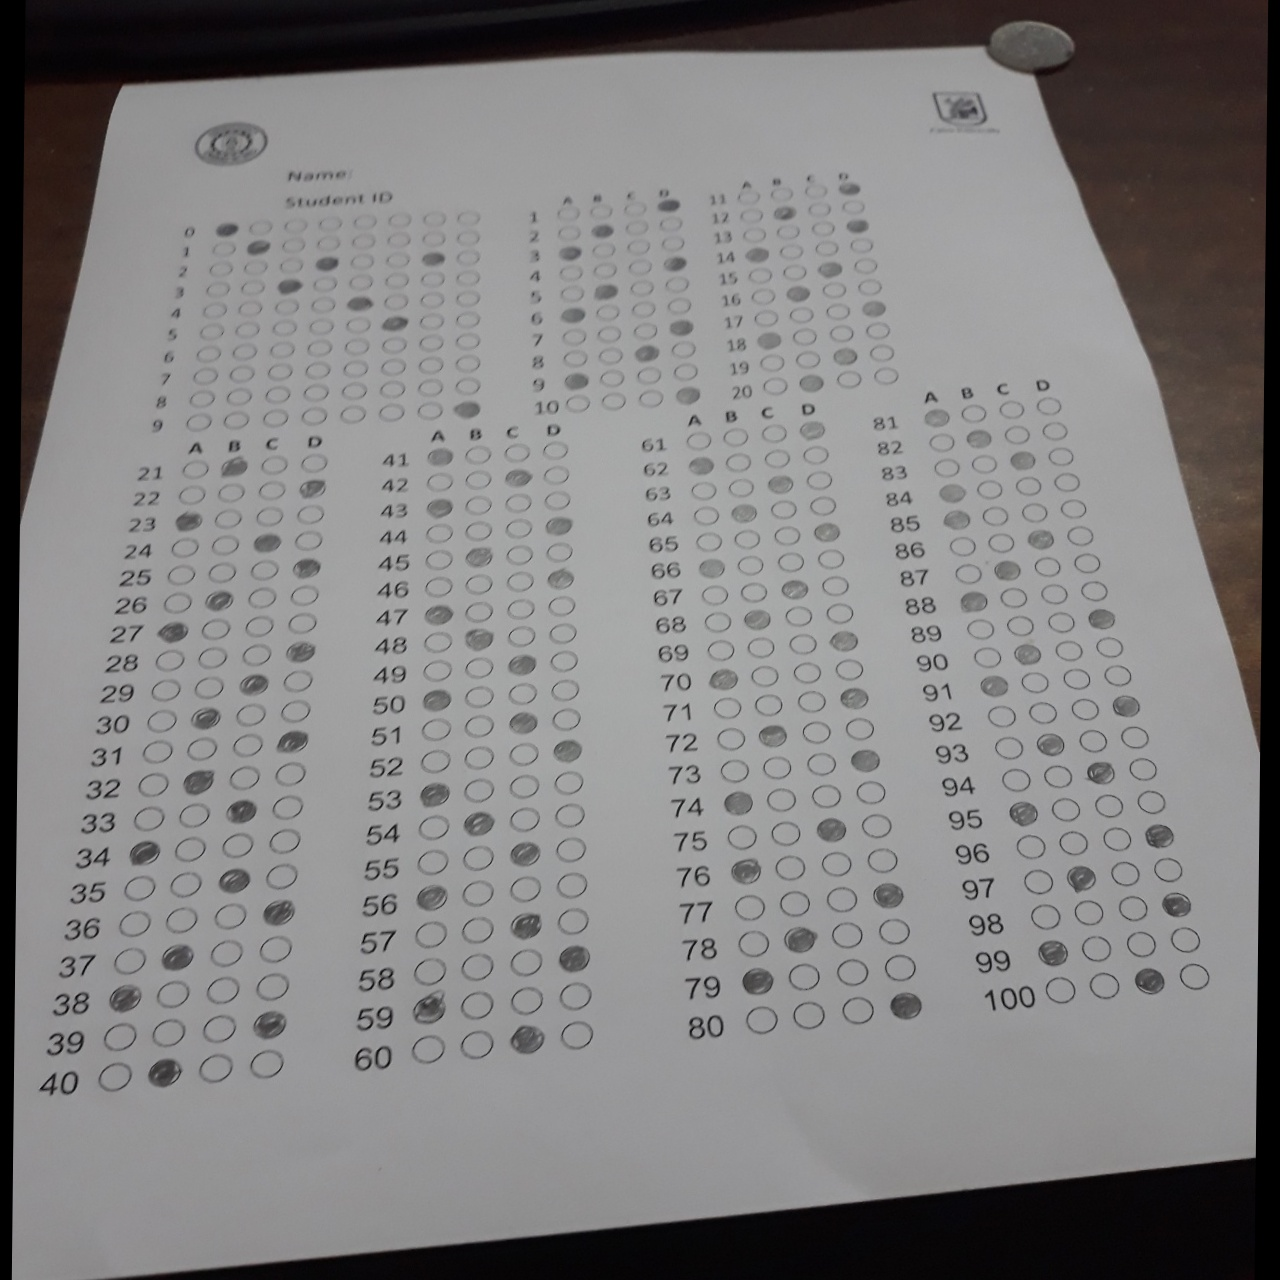not-c: (508, 945, 546, 978), (196, 1051, 234, 1084), (883, 949, 919, 983), (411, 954, 449, 987), (456, 951, 493, 983), (554, 904, 592, 937), (508, 985, 545, 1017), (556, 1017, 593, 1050), (554, 979, 593, 1010), (154, 978, 192, 1009), (114, 907, 152, 939), (264, 860, 302, 892), (733, 888, 769, 921), (777, 886, 813, 919), (825, 881, 862, 914), (97, 1060, 135, 1091), (100, 1020, 137, 1051), (162, 904, 199, 935), (207, 937, 246, 967), (200, 1012, 236, 1044), (840, 993, 877, 1024), (789, 999, 825, 1030), (833, 956, 870, 988), (829, 919, 865, 951), (865, 844, 901, 876), (771, 851, 808, 883), (857, 809, 893, 840), (248, 1047, 285, 1078), (113, 944, 149, 975), (212, 898, 248, 930), (266, 824, 302, 856), (217, 830, 253, 862), (171, 833, 207, 865), (149, 1017, 186, 1048), (203, 974, 240, 1005), (256, 933, 293, 964), (164, 867, 202, 898), (121, 872, 158, 903), (744, 1003, 779, 1035), (737, 928, 772, 960), (818, 847, 853, 879), (768, 816, 803, 847), (410, 1032, 445, 1063), (876, 914, 912, 945), (458, 989, 495, 1020), (256, 969, 292, 1000), (787, 961, 822, 992), (726, 821, 761, 851), (459, 1029, 495, 1060), (719, 756, 753, 785), (414, 919, 449, 947), (178, 799, 210, 830), (132, 804, 164, 835), (764, 784, 797, 813), (805, 747, 838, 776), (761, 751, 794, 781), (268, 792, 302, 821), (809, 781, 840, 810), (845, 713, 877, 742), (715, 722, 747, 751), (855, 777, 887, 805), (799, 717, 832, 745), (459, 915, 493, 942), (459, 880, 492, 907), (188, 733, 220, 760), (141, 737, 173, 764), (509, 805, 539, 833), (509, 874, 539, 903), (704, 636, 736, 663), (417, 812, 449, 839), (232, 731, 264, 758), (240, 642, 272, 669), (285, 608, 316, 635), (287, 581, 319, 608), (245, 583, 277, 610), (161, 588, 192, 615), (274, 760, 307, 785), (136, 772, 169, 798), (233, 702, 266, 728), (148, 676, 181, 702), (151, 646, 184, 672), (199, 617, 232, 642), (243, 614, 275, 640), (508, 772, 542, 797), (1046, 975, 1074, 1005), (1001, 765, 1032, 792), (1136, 788, 1166, 815), (1110, 859, 1141, 886), (1088, 971, 1118, 998), (787, 629, 817, 656), (553, 768, 584, 795), (462, 776, 492, 803), (554, 802, 585, 829), (417, 847, 448, 874), (463, 844, 493, 871), (554, 836, 585, 863), (557, 872, 587, 899), (199, 644, 230, 670), (1080, 934, 1111, 960), (753, 692, 784, 717), (795, 688, 826, 714), (145, 706, 177, 731), (279, 697, 311, 723), (281, 668, 313, 694), (192, 675, 224, 701), (420, 716, 452, 741), (508, 740, 540, 764), (1073, 898, 1102, 925), (1125, 930, 1155, 956), (1170, 926, 1199, 953), (1178, 962, 1207, 989), (1015, 832, 1046, 858), (712, 694, 742, 720), (750, 662, 781, 688), (229, 763, 259, 789), (421, 656, 452, 681), (550, 707, 581, 731), (508, 680, 539, 704), (464, 713, 496, 737), (461, 745, 493, 769), (1023, 867, 1051, 894), (1119, 723, 1149, 749), (994, 734, 1023, 760), (1042, 762, 1071, 788), (1128, 754, 1157, 779), (1092, 792, 1122, 818), (1152, 856, 1182, 881), (1029, 903, 1058, 928), (791, 659, 821, 685), (835, 656, 864, 682), (745, 634, 775, 660), (701, 610, 731, 634), (550, 675, 580, 700), (170, 535, 200, 559), (549, 649, 580, 673), (175, 483, 206, 506), (258, 452, 290, 476), (216, 481, 248, 503), (1080, 726, 1107, 753), (1058, 828, 1085, 855), (1118, 896, 1146, 921), (1102, 825, 1131, 850), (464, 685, 493, 709), (768, 497, 798, 520), (806, 493, 837, 517), (462, 442, 492, 465), (503, 491, 533, 515), (463, 654, 493, 678), (418, 749, 449, 772), (256, 503, 286, 526), (1050, 796, 1078, 821), (1062, 667, 1091, 690), (774, 550, 803, 573), (685, 427, 714, 450), (502, 440, 531, 463), (462, 467, 491, 490), (542, 488, 571, 511), (502, 542, 531, 565), (166, 563, 196, 586), (297, 502, 326, 525), (694, 529, 724, 551), (463, 519, 493, 542), (463, 600, 493, 622), (421, 631, 451, 653), (207, 535, 238, 557), (293, 527, 324, 550), (772, 523, 801, 546), (692, 503, 720, 526), (726, 475, 754, 498), (758, 420, 787, 443), (424, 470, 452, 493), (425, 522, 454, 545), (508, 568, 536, 592), (1095, 635, 1124, 658), (1028, 700, 1057, 722), (784, 604, 813, 626), (825, 600, 855, 622), (821, 573, 850, 595), (737, 580, 767, 602), (700, 583, 729, 605), (734, 553, 763, 576), (804, 468, 833, 490), (799, 443, 829, 465), (724, 450, 754, 472), (688, 478, 717, 501), (720, 425, 749, 448), (463, 493, 492, 516), (545, 542, 574, 564), (464, 573, 493, 595), (506, 598, 536, 620), (248, 558, 278, 580), (213, 508, 243, 530), (299, 451, 328, 474), (733, 527, 763, 549), (762, 447, 792, 468), (502, 518, 532, 539), (1080, 579, 1108, 601), (1020, 669, 1048, 692), (1073, 696, 1101, 719), (424, 576, 452, 598), (508, 624, 536, 646), (547, 622, 576, 645), (547, 594, 576, 617), (207, 560, 236, 583), (1053, 639, 1082, 660), (987, 704, 1016, 726), (542, 438, 571, 459), (424, 549, 454, 570), (181, 457, 210, 478), (816, 549, 846, 568), (258, 481, 288, 501), (1003, 423, 1030, 445), (1042, 418, 1069, 441), (1053, 470, 1080, 492), (966, 618, 993, 640), (1104, 663, 1132, 685), (542, 464, 570, 485), (856, 275, 885, 295), (748, 286, 777, 306), (961, 402, 987, 424), (1048, 444, 1074, 467), (988, 531, 1014, 553), (974, 645, 1000, 667), (455, 374, 481, 396), (1036, 395, 1063, 416), (927, 431, 954, 452), (975, 478, 1002, 499), (1014, 475, 1041, 496), (949, 535, 976, 556), (1065, 525, 1092, 546), (1074, 551, 1101, 572), (954, 561, 981, 583), (1005, 614, 1032, 635), (835, 367, 862, 388), (188, 387, 215, 408), (379, 377, 406, 399), (829, 322, 857, 342), (753, 307, 781, 327), (821, 278, 849, 298), (745, 264, 774, 284), (971, 452, 996, 474), (1021, 501, 1047, 522), (982, 504, 1008, 525), (1034, 554, 1060, 576), (1000, 586, 1026, 607), (1048, 610, 1074, 631), (762, 375, 788, 396), (225, 384, 251, 406), (265, 383, 291, 404), (302, 382, 328, 403), (341, 380, 367, 401), (1041, 583, 1068, 602), (794, 350, 822, 369), (867, 342, 896, 361), (864, 320, 892, 339), (791, 327, 819, 346), (787, 305, 815, 324), (852, 256, 880, 274), (779, 263, 808, 281), (777, 240, 805, 259), (999, 399, 1024, 418), (933, 457, 959, 477), (1061, 498, 1087, 518), (873, 365, 899, 384), (302, 406, 328, 425), (263, 407, 288, 427), (184, 413, 210, 433), (455, 352, 481, 372), (420, 311, 445, 331), (420, 288, 445, 308), (455, 287, 481, 307), (271, 318, 297, 338), (234, 319, 260, 339), (824, 302, 851, 321), (812, 238, 839, 257), (554, 203, 581, 222), (558, 284, 585, 302), (595, 325, 622, 343), (561, 348, 588, 367), (595, 346, 622, 365), (670, 339, 697, 358), (377, 403, 404, 422), (222, 411, 248, 430), (270, 339, 297, 358), (316, 215, 343, 233), (566, 393, 590, 414), (636, 365, 661, 384), (599, 367, 624, 387), (639, 388, 663, 408), (384, 292, 409, 312), (238, 297, 263, 316), (389, 209, 414, 229), (758, 353, 784, 372), (656, 215, 682, 233), (594, 302, 620, 321), (632, 320, 658, 339), (339, 404, 365, 423), (418, 354, 444, 373), (305, 360, 331, 379), (267, 361, 293, 380), (230, 363, 256, 382), (193, 366, 219, 384), (196, 343, 222, 362), (307, 338, 333, 356), (418, 332, 444, 350), (308, 316, 334, 335), (386, 270, 411, 288), (421, 268, 447, 287), (455, 267, 481, 286), (421, 207, 447, 226), (586, 202, 613, 219), (622, 218, 649, 236), (557, 264, 584, 281), (663, 273, 690, 291), (665, 295, 692, 313), (352, 211, 379, 229), (207, 259, 234, 277), (246, 217, 273, 234), (282, 217, 309, 234), (602, 390, 626, 410), (275, 297, 299, 316), (673, 361, 697, 380), (418, 401, 443, 420), (381, 356, 406, 375), (343, 358, 368, 376), (343, 338, 368, 356), (382, 335, 407, 354), (455, 331, 479, 349), (455, 309, 479, 328), (387, 230, 411, 248), (282, 236, 307, 254), (847, 236, 873, 253), (775, 222, 801, 239), (741, 225, 767, 243), (740, 205, 765, 223), (768, 183, 794, 200), (802, 181, 828, 198), (840, 197, 866, 215), (556, 223, 581, 240), (625, 238, 651, 256), (628, 258, 654, 275), (590, 241, 615, 259), (628, 278, 654, 295), (631, 299, 656, 316), (561, 327, 587, 345), (346, 316, 372, 334), (309, 295, 335, 313), (456, 209, 482, 226), (314, 234, 340, 252), (279, 257, 305, 274), (240, 258, 266, 275), (809, 219, 836, 236), (806, 200, 833, 217), (621, 199, 648, 216), (418, 377, 442, 396), (240, 277, 264, 295), (232, 342, 257, 360), (200, 321, 225, 339), (205, 280, 230, 298), (349, 252, 374, 270), (384, 250, 409, 267), (456, 246, 481, 264), (422, 230, 447, 247), (352, 232, 376, 250), (735, 188, 761, 204), (660, 234, 686, 251), (591, 261, 617, 278), (211, 240, 237, 257), (348, 273, 373, 290), (456, 229, 481, 245), (204, 301, 227, 318), (314, 275, 338, 292)
taken-c: (411, 992, 447, 1023), (259, 897, 295, 927), (107, 981, 143, 1012), (159, 942, 195, 973), (148, 1057, 183, 1088), (253, 1008, 288, 1039), (509, 911, 544, 941), (459, 808, 495, 838), (508, 838, 543, 869), (414, 777, 449, 808), (511, 1023, 547, 1053), (886, 990, 922, 1020), (554, 942, 588, 973), (414, 880, 449, 910), (738, 966, 774, 995), (1063, 862, 1098, 891), (1034, 729, 1069, 758), (215, 865, 251, 893), (779, 925, 816, 953), (1130, 966, 1166, 994), (1157, 890, 1193, 918), (813, 815, 847, 844), (978, 670, 1012, 700), (720, 790, 755, 818), (847, 747, 883, 775), (728, 856, 763, 884), (1034, 938, 1069, 966), (1082, 758, 1117, 787), (1082, 604, 1117, 632), (1005, 799, 1039, 828), (1008, 639, 1042, 667), (870, 881, 905, 908), (1141, 821, 1176, 847), (1108, 692, 1143, 719), (462, 626, 493, 653), (779, 577, 812, 602), (838, 686, 872, 710), (506, 651, 538, 676), (462, 544, 493, 570), (551, 737, 584, 762), (418, 687, 451, 712), (424, 493, 457, 518), (729, 501, 762, 525), (795, 417, 828, 442), (694, 556, 727, 580), (424, 443, 458, 467), (706, 668, 740, 692), (825, 628, 859, 652), (754, 723, 788, 747), (284, 639, 315, 663), (506, 710, 538, 735), (542, 513, 574, 537), (503, 467, 536, 490), (810, 520, 843, 544), (741, 607, 774, 631), (277, 731, 307, 756), (191, 707, 222, 731), (183, 769, 213, 794), (225, 799, 256, 824), (129, 839, 159, 864), (237, 673, 268, 696), (765, 472, 798, 495), (545, 566, 576, 590), (685, 454, 716, 476), (423, 602, 452, 626), (941, 509, 971, 532), (157, 621, 188, 644), (938, 482, 966, 505), (1026, 526, 1055, 549), (964, 427, 993, 449), (990, 558, 1019, 580), (1007, 450, 1035, 472), (958, 591, 987, 612), (254, 532, 281, 554), (219, 456, 247, 477), (204, 590, 232, 611), (293, 556, 321, 577), (298, 477, 325, 498), (173, 510, 200, 531), (922, 406, 949, 427), (754, 331, 781, 350), (343, 295, 372, 314), (212, 219, 240, 238), (557, 243, 583, 263), (632, 343, 659, 362), (673, 386, 700, 404), (277, 277, 304, 295), (245, 237, 272, 256), (452, 401, 481, 418), (382, 315, 410, 333), (558, 306, 584, 325), (594, 282, 621, 300), (561, 372, 588, 389), (418, 248, 445, 266), (655, 195, 681, 212), (669, 319, 695, 336), (313, 256, 339, 273), (844, 216, 869, 233), (832, 347, 857, 365), (787, 284, 811, 301), (588, 223, 615, 238), (771, 203, 796, 219), (661, 254, 687, 270), (799, 373, 822, 390), (745, 245, 768, 263), (838, 178, 862, 195), (860, 300, 883, 316), (818, 260, 840, 277)
